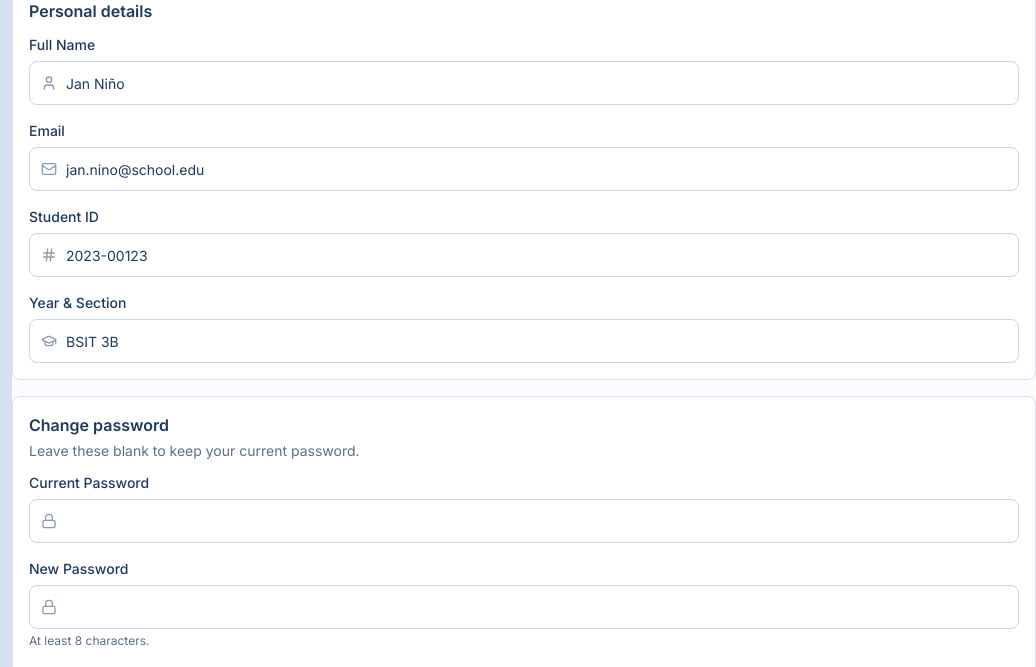
it: Profile › prefills the profile, omits blank passwords, and saves the details
Expected: the field labelled "Full Name" holds "Jan Niño", [29, 61, 1019, 105]
Expected: the field labelled "Email" holds "jan.nino@school.edu", [29, 147, 1019, 191]
Type "BSIT 4A" into the field labelled "Year & Section" at (524, 341), box [29, 319, 1019, 363]
(page scrolled)
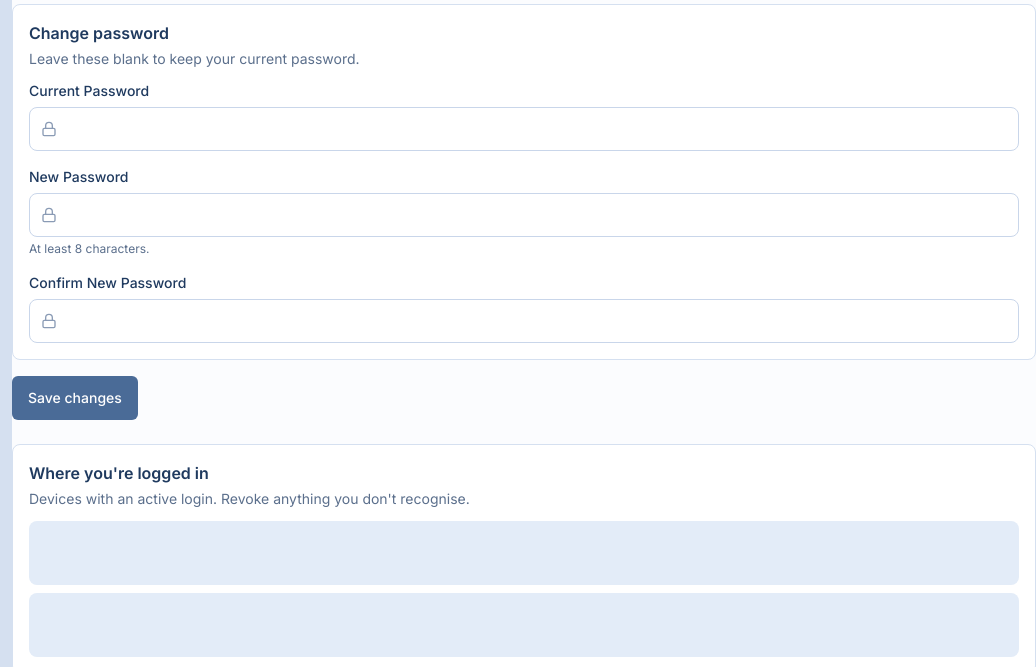
Click the button "Save changes" at (75, 398), box [12, 376, 138, 420]
(page scrolled)
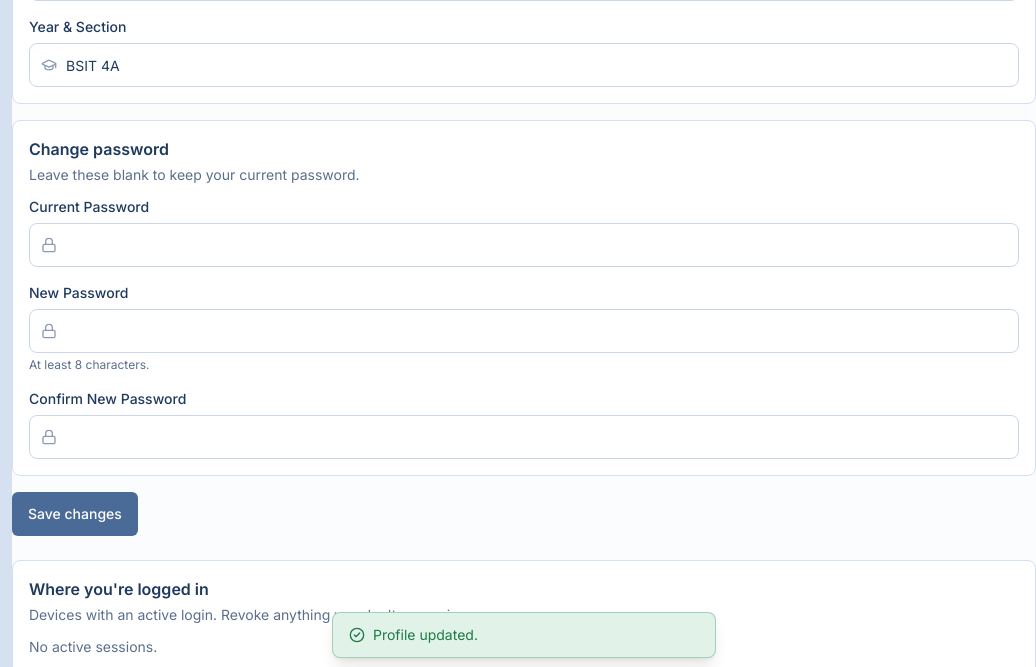
Result: the text "Profile updated." is shown at [373, 625, 478, 645]
